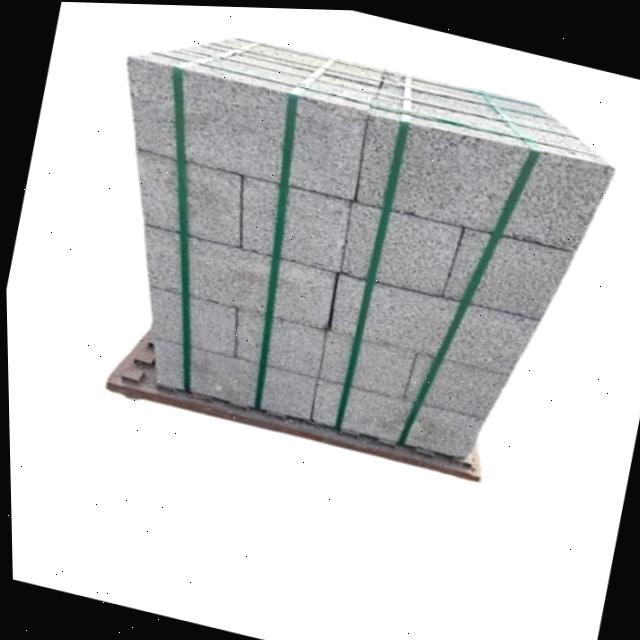bricks: (129, 38, 612, 455)
